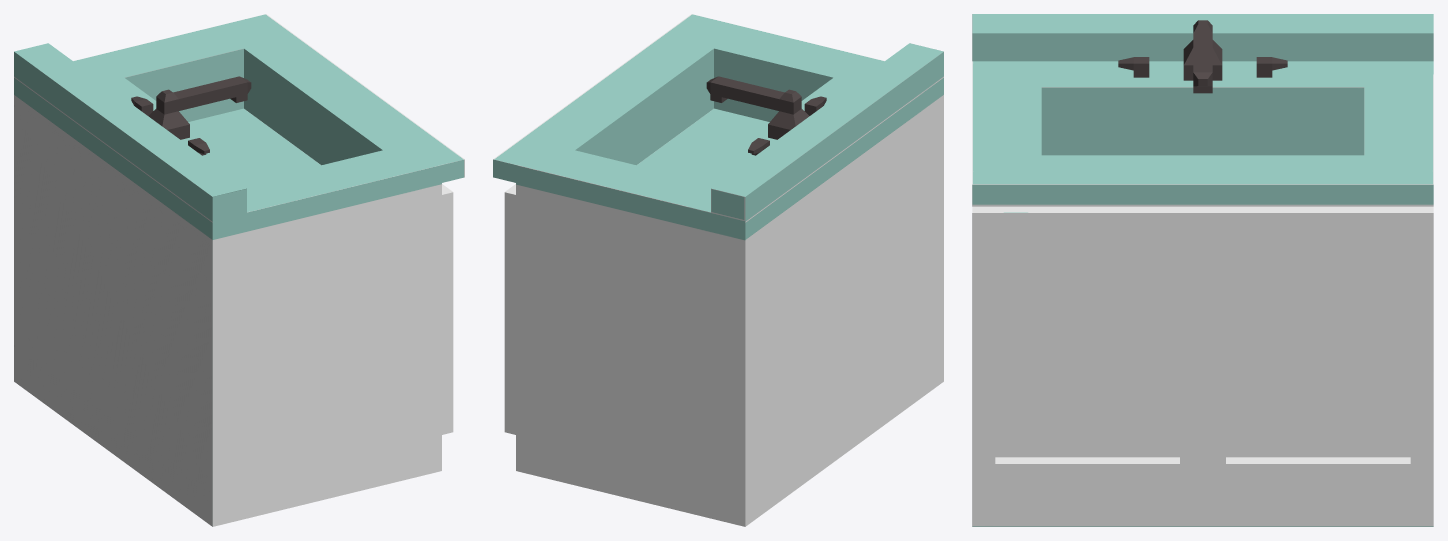
File: WashBasin.fbx
The picture shows the model from 3 angles, left to right: view 1: azimuth 30°, elevation 25°; view 2: azimuth 150°, elevation 25°; view 3: azimuth 270°, elevation 25°; orthographic projection. The views are drawn at different scales.
Visible parts, largest first — view 1: Basin, Cube.001; view 2: Basin, Cube.001; view 3: Basin, Cube.001.
Boxes of the visible parts, x1=… form: Basin: x1=14, y1=14, x2=464, y2=526; Cube.001: x1=131, y1=76, x2=251, y2=155; Basin: x1=493, y1=14, x2=943, y2=526; Cube.001: x1=706, y1=76, x2=826, y2=155; Basin: x1=972, y1=14, x2=1433, y2=526; Cube.001: x1=1118, y1=20, x2=1287, y2=93.
Size of the model in its own units: 220 by 291 by 300.
2 materials, 2 textured.
